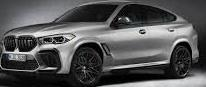Crossovers: (1, 3, 200, 87)
